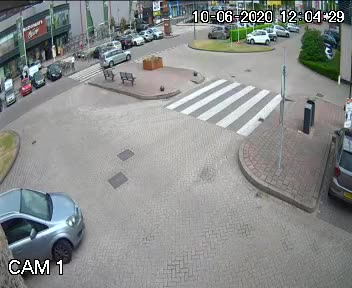car: (0, 182, 91, 274), (98, 49, 129, 63)
